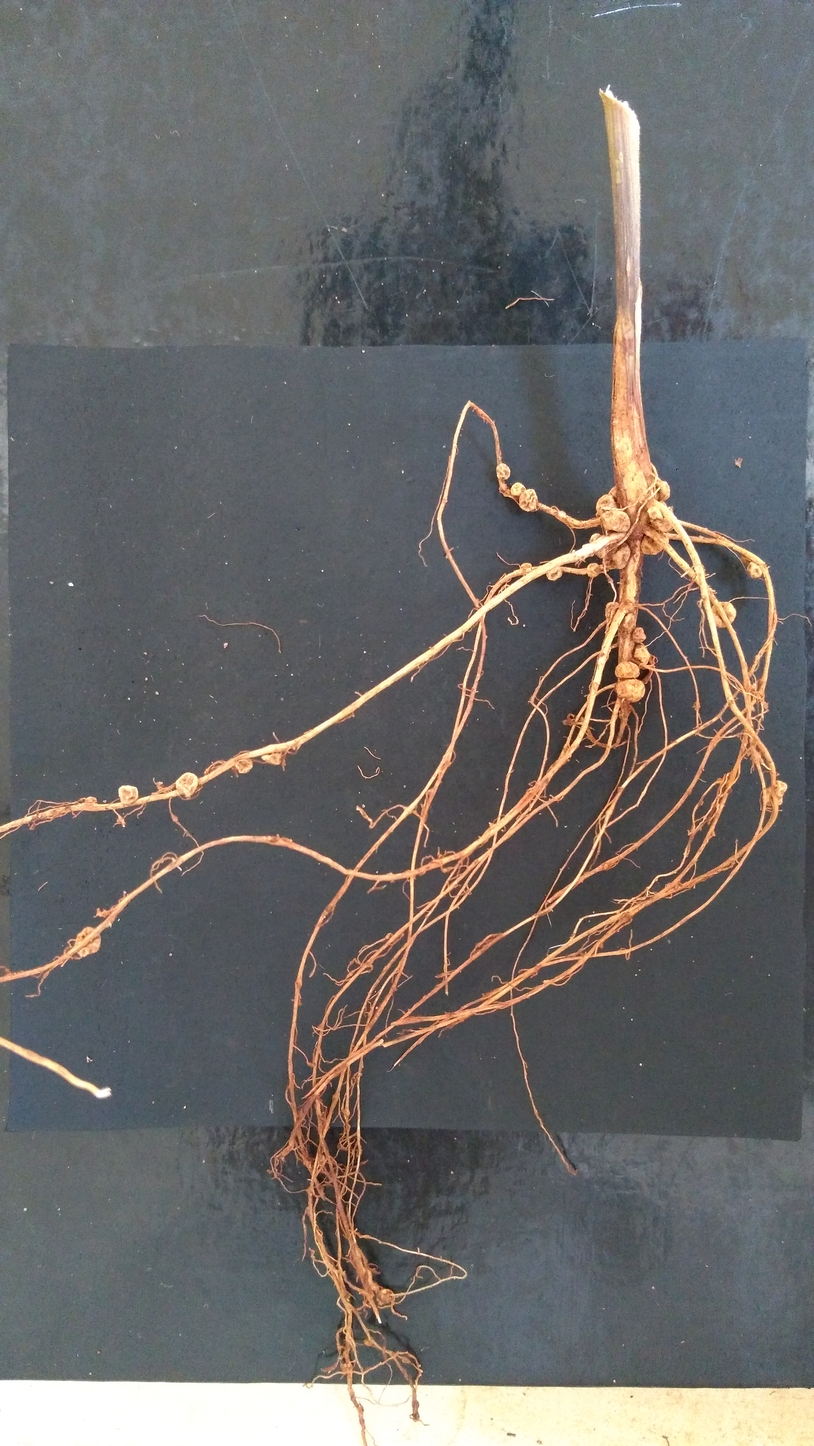nodule: (647, 500, 676, 532), (602, 539, 630, 570), (641, 526, 670, 555), (75, 927, 101, 958), (601, 508, 631, 533), (615, 679, 645, 703), (710, 602, 736, 628), (762, 781, 787, 807), (596, 494, 619, 520), (175, 772, 198, 797), (617, 611, 635, 639), (614, 661, 640, 679), (633, 642, 650, 669), (589, 533, 606, 559), (261, 745, 283, 765), (519, 489, 538, 512), (118, 785, 139, 805), (375, 1288, 395, 1307), (653, 479, 670, 501), (604, 601, 620, 624), (235, 756, 253, 775), (746, 562, 763, 578), (546, 565, 562, 581), (631, 627, 646, 644), (496, 463, 510, 481), (618, 699, 630, 719), (586, 563, 600, 578), (511, 482, 526, 496), (740, 552, 755, 565), (582, 543, 594, 558), (608, 486, 619, 501), (384, 932, 395, 946), (341, 1363, 354, 1374), (519, 563, 532, 573), (363, 1337, 375, 1347), (83, 796, 97, 804), (626, 601, 634, 610), (751, 683, 758, 690), (750, 706, 756, 712)
